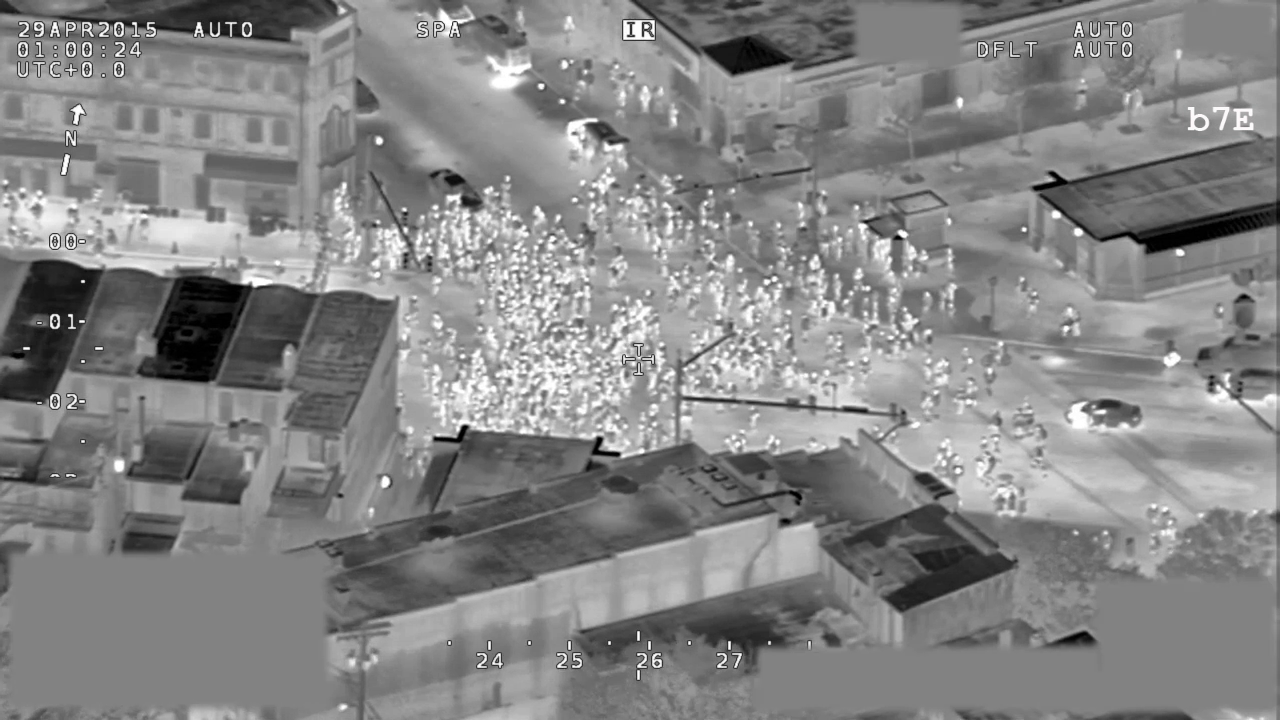vehicle: (1188, 290, 1280, 381), (454, 12, 531, 78), (563, 112, 632, 165), (422, 163, 487, 216), (1065, 392, 1146, 432), (1204, 365, 1280, 403)
